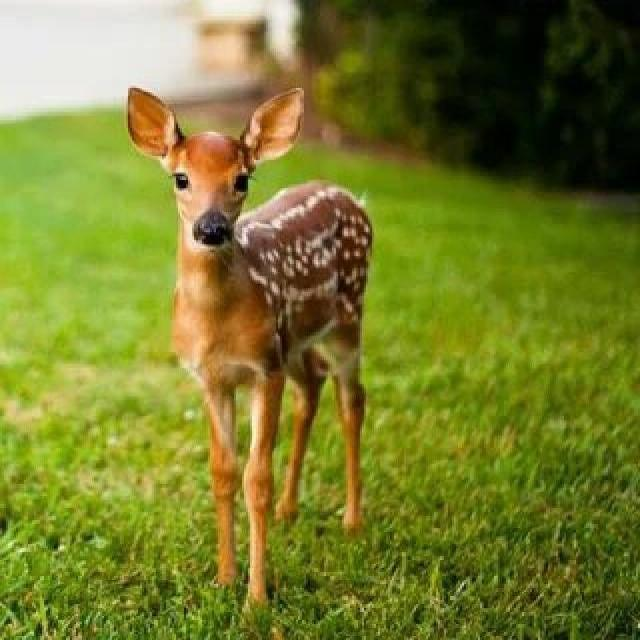deer: (84, 59, 490, 584)
